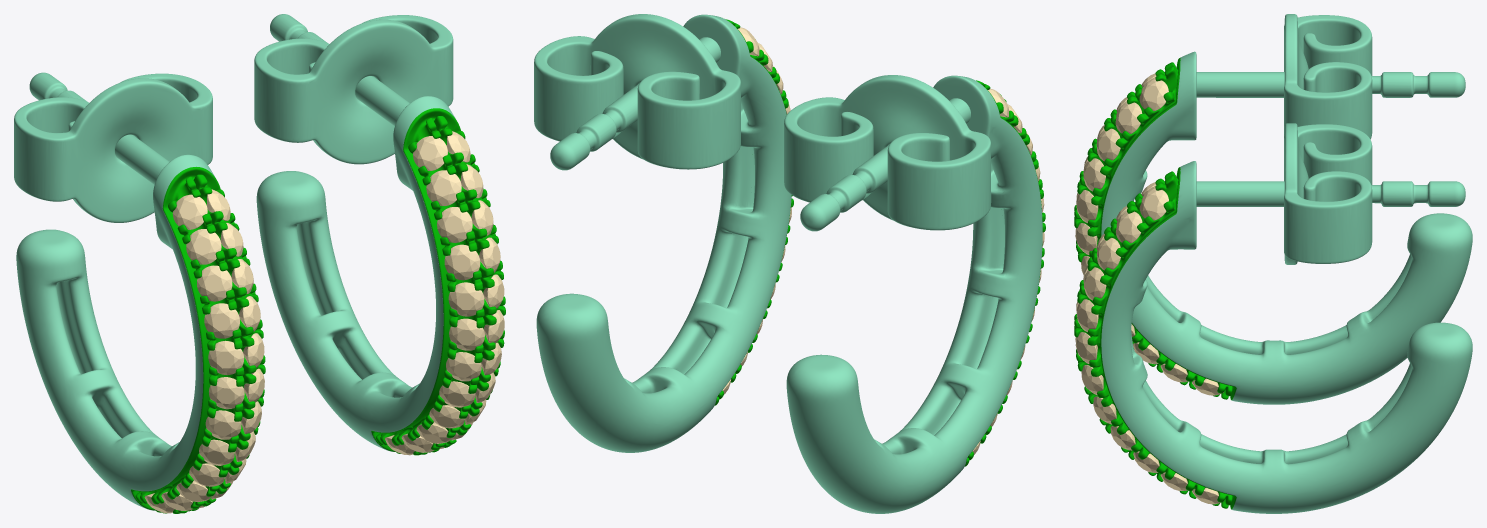
Rendered from TES-ER-R-43132-RR.glb.
3 renders of one model, left to right at view 1: azimuth 30°, elevation 25°; view 2: azimuth 150°, elevation 25°; view 3: azimuth 270°, elevation 25°, orthographic. The views are drawn at different scales.
Parts seen in each view (by area): view 1: Metal2, Metal1, Diamond_Round.014, Diamond_Round.047, Diamond_Round.038, Diamond_Round.015, Diamond_Round.013, Diamond_Round.037, Diamond_Round.016, Diamond_Round.039, Diamond_Round.012, Diamond_Round.036 (+8 smaller); view 2: Metal2, Metal1; view 3: Metal2, Metal1, Diamond_Round.035, Diamond_Round.011, Diamond_Round.034, Diamond_Round.010, Diamond_Round.033, Diamond_Round, Diamond_Round.032, Diamond_Round.009, Diamond_Round.031, Diamond_Round.008 (+2 smaller).
Part boxes in pixels (<box>): Metal2: <box>14,14,455,510</box>; Metal1: <box>131,108,505,513</box>; Diamond_Round.014: <box>437,207,472,242</box>; Diamond_Round.047: <box>197,265,232,301</box>; Diamond_Round.038: <box>204,303,239,338</box>; Diamond_Round.015: <box>444,244,480,280</box>; Diamond_Round.013: <box>426,170,461,205</box>; Diamond_Round.037: <box>186,229,221,264</box>; Diamond_Round.016: <box>448,282,484,316</box>; Diamond_Round.039: <box>208,340,244,375</box>; Diamond_Round.012: <box>413,136,447,170</box>; Diamond_Round.036: <box>172,194,207,229</box>; Metal2: <box>534,14,1042,513</box>; Metal1: <box>715,19,1045,466</box>; Metal2: <box>1101,14,1472,513</box>; Metal1: <box>1074,57,1236,509</box>; Diamond_Round.035: <box>1139,79,1168,111</box>; Diamond_Round.011: <box>1139,188,1168,220</box>; Diamond_Round.034: <box>1115,102,1142,133</box>; Diamond_Round.010: <box>1116,211,1142,243</box>; Diamond_Round.033: <box>1096,128,1120,161</box>; Diamond_Round: <box>1097,238,1120,270</box>; Diamond_Round.032: <box>1083,158,1105,191</box>; Diamond_Round.009: <box>1083,267,1106,300</box>; Diamond_Round.031: <box>1076,190,1098,222</box>; Diamond_Round.008: <box>1076,299,1098,331</box>.
Bounding box in the file's own units: 17.6 × 16.27 × 15.43.
